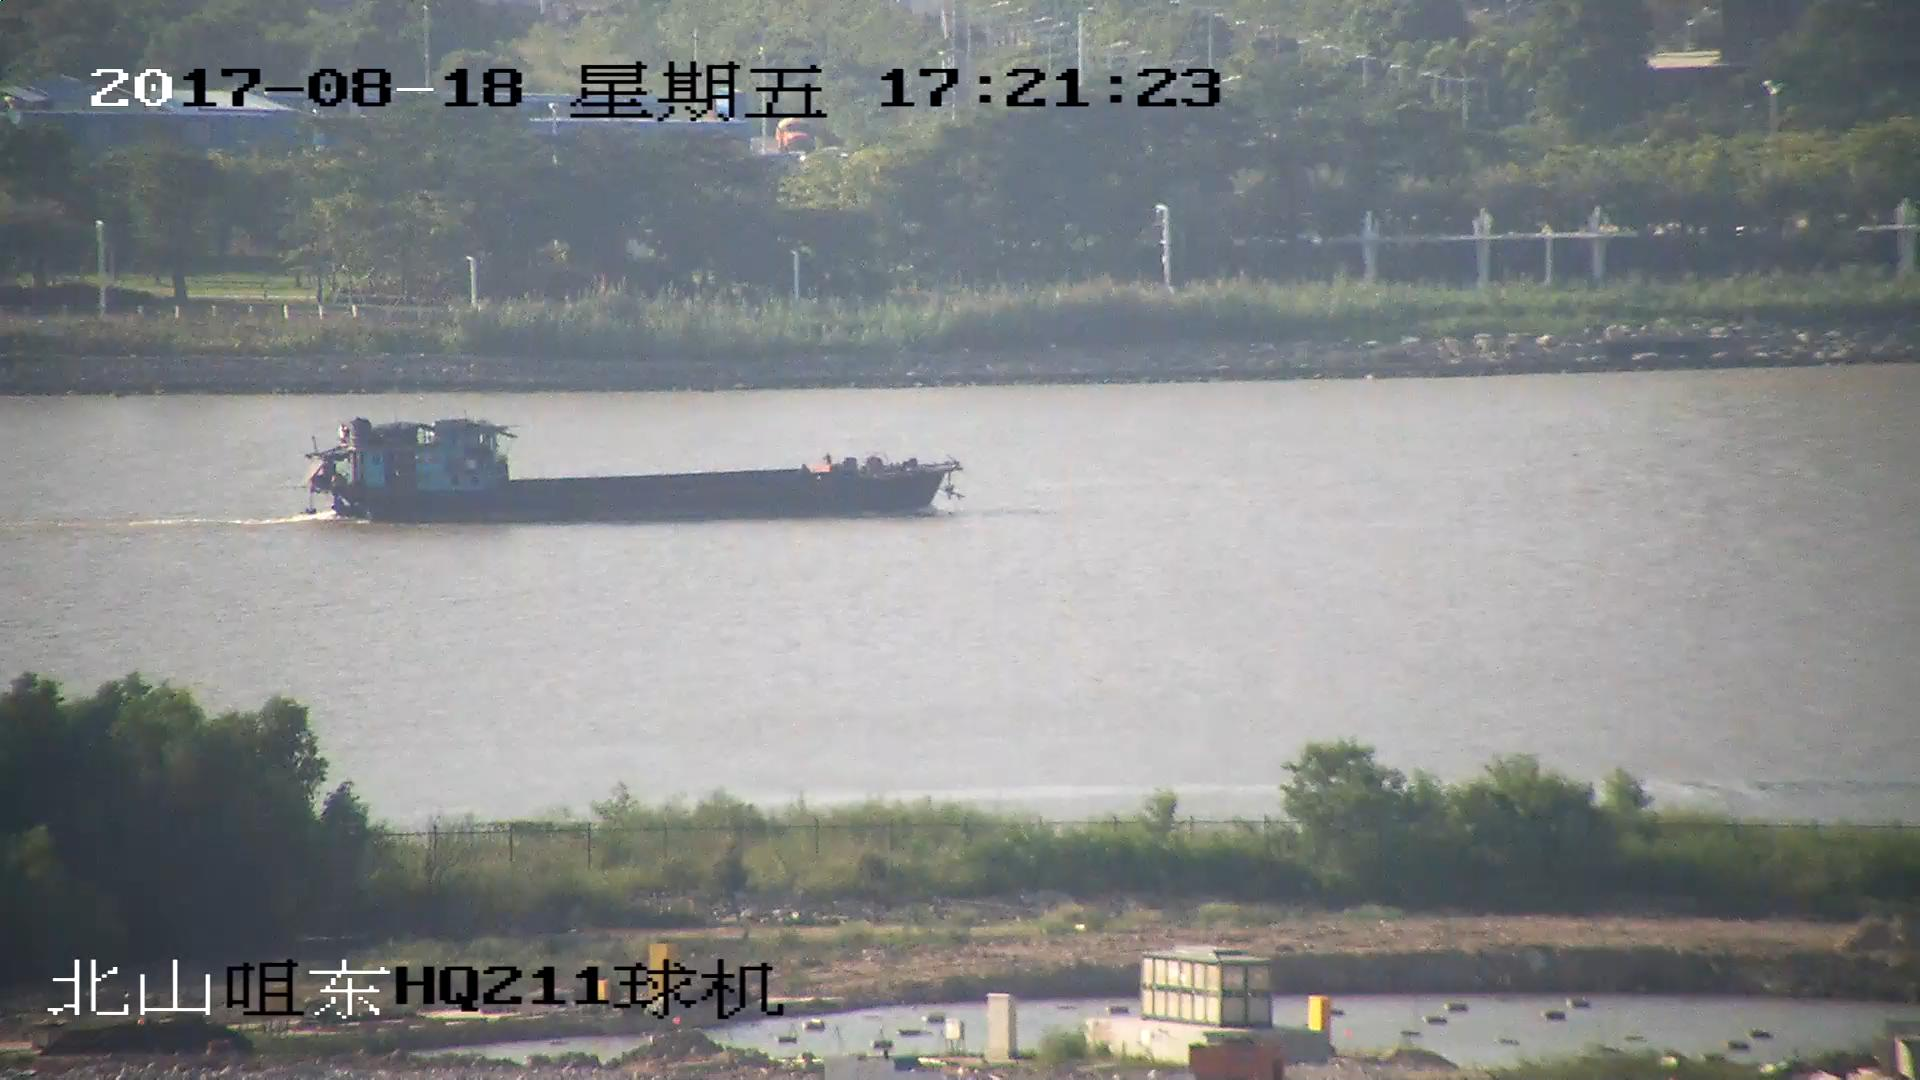bulk cargo carrier: (303, 421, 961, 525)
